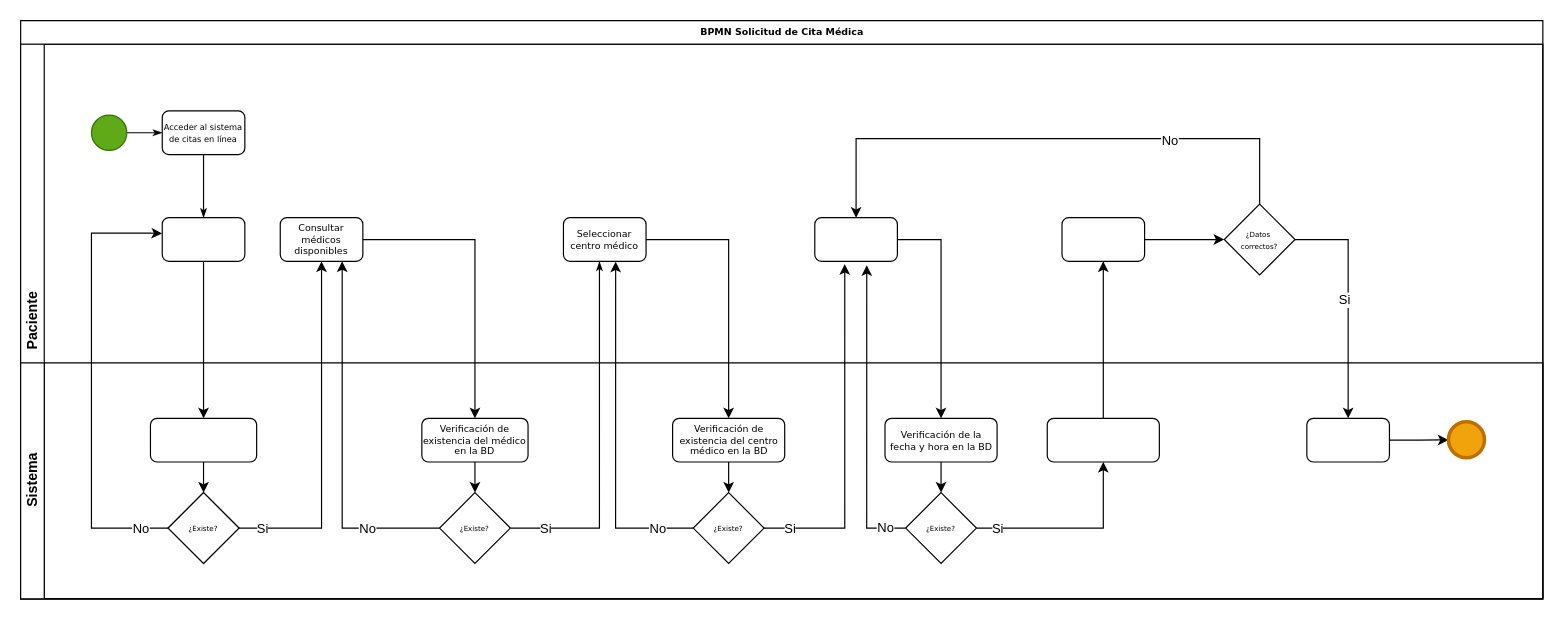
Image size: 1563x620. Some labels were removed from this diagram. Each missing label, with the box of its shape:
Fin: (1447, 421, 1484, 458)
Guarda y agenda la cita: (1306, 417, 1389, 462)
Inicio: (90, 114, 127, 150)
Paciente verifica el resumen de la cita: (1061, 217, 1145, 261)
Seleccionar especialidad médica: (161, 217, 245, 261)
Seleccionar fecha y hora de la cita: (814, 217, 897, 261)
Sistema genera un resumen general de la cita: (1046, 417, 1159, 462)
Verificación de existencia de la especialidad en la BD: (149, 417, 257, 462)
